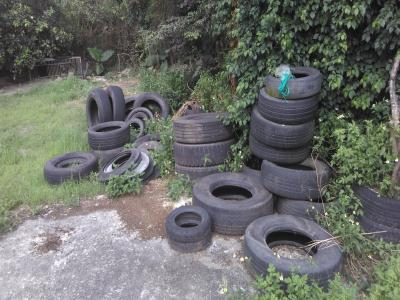tire: (246, 213, 347, 289), (190, 170, 279, 237), (260, 156, 331, 202), (247, 103, 315, 150), (173, 136, 239, 169), (247, 133, 313, 166), (170, 114, 240, 145), (41, 148, 98, 185), (263, 65, 321, 100), (163, 204, 215, 242), (98, 148, 143, 185), (129, 92, 171, 128), (81, 87, 115, 129), (83, 119, 134, 147), (105, 85, 126, 120)
